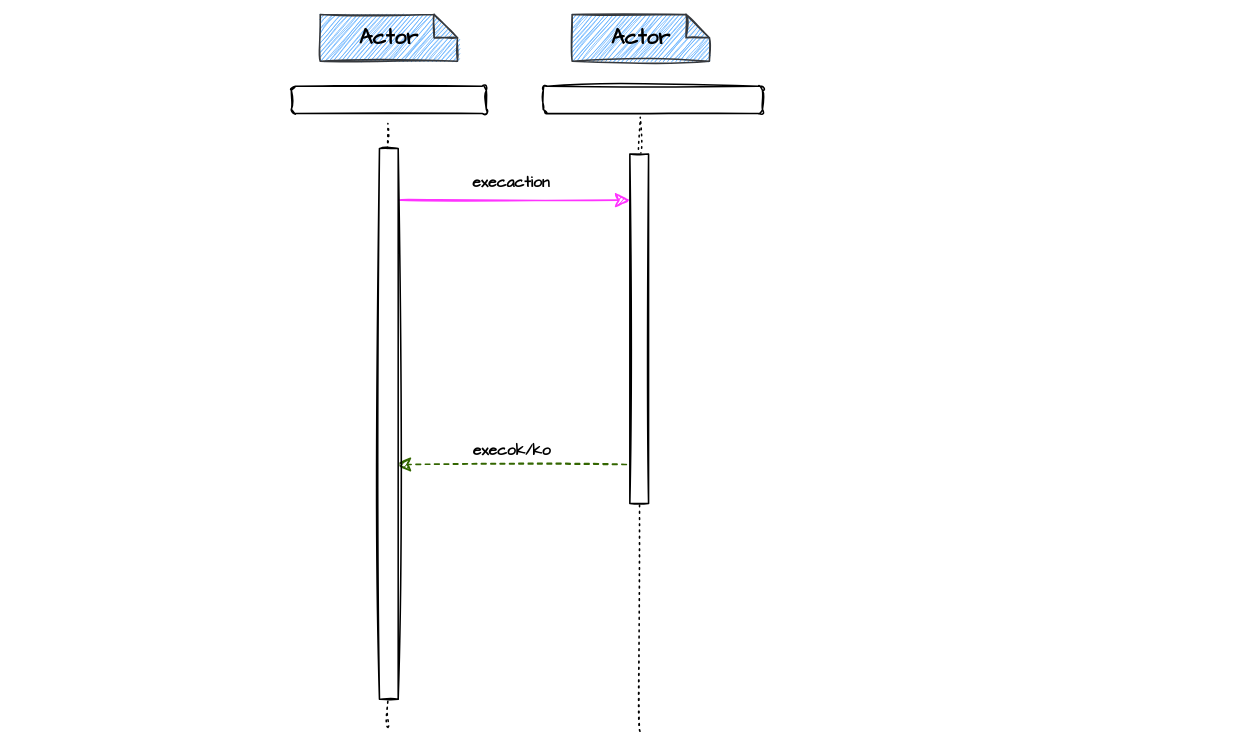
This 1247x745 diagram has some shape labels left out. Each missing label, with the box of its shape:
:TransportTrolleyExecutor: (542, 85, 763, 114)
TransportTrolleyCore: (290, 85, 487, 114)
